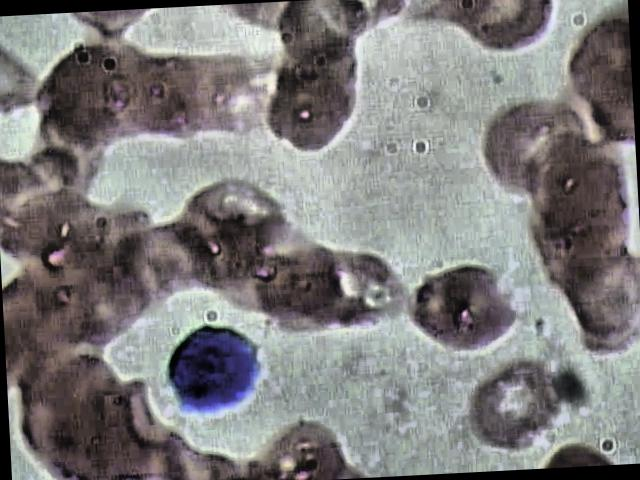RBC: (31, 35, 156, 154), (258, 34, 368, 160), (528, 138, 638, 264), (470, 98, 598, 202), (288, 244, 404, 344), (458, 359, 572, 454), (410, 259, 520, 357), (2, 190, 116, 278), (170, 48, 265, 144), (419, 0, 563, 59), (558, 249, 640, 342), (269, 0, 368, 74), (134, 220, 222, 303)
WBC: (150, 317, 272, 428)
